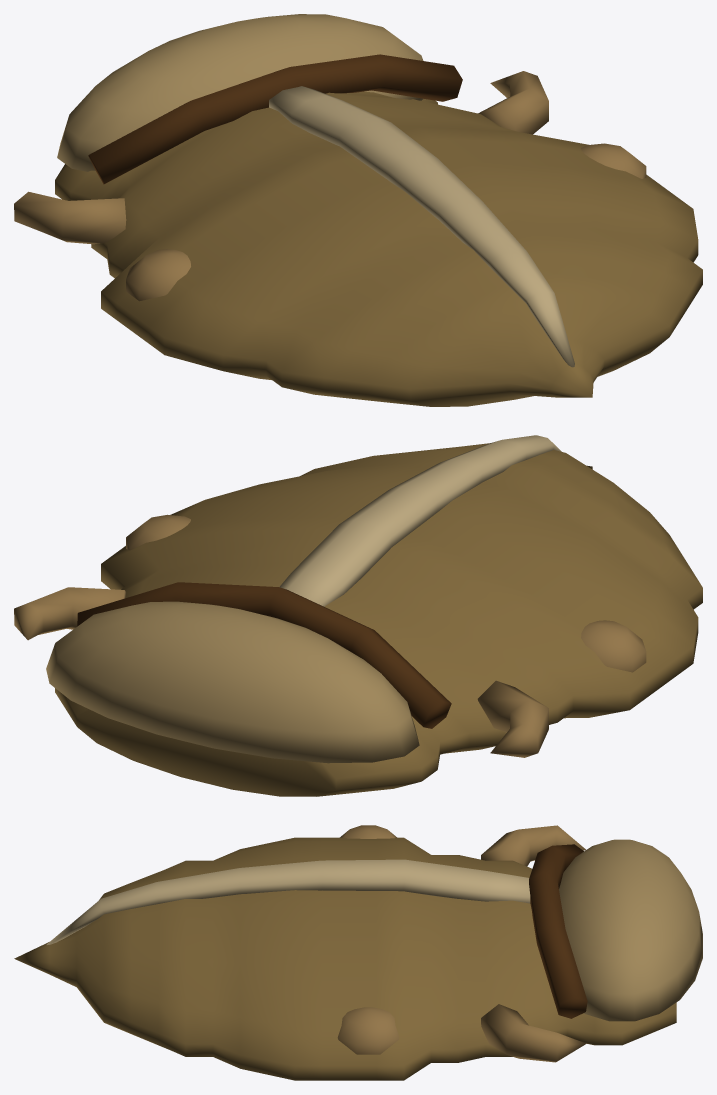
Rendered from newshh-131.glb.
3 renders of one model, top to bottom at view 1: azimuth 30°, elevation 25°; view 2: azimuth 150°, elevation 25°; view 3: azimuth 270°, elevation 25°, orthographic. The views are drawn at different scales.
Visible parts, largest first — view 1: newshh-131; view 2: newshh-131; view 3: newshh-131.
Boxes of the visible parts, bbox=[...] form: newshh-131: bbox=[14, 14, 702, 406]; newshh-131: bbox=[14, 435, 702, 796]; newshh-131: bbox=[14, 825, 702, 1080].
Size of the model in its own units: 1.6 by 0.4665 by 2.11.
